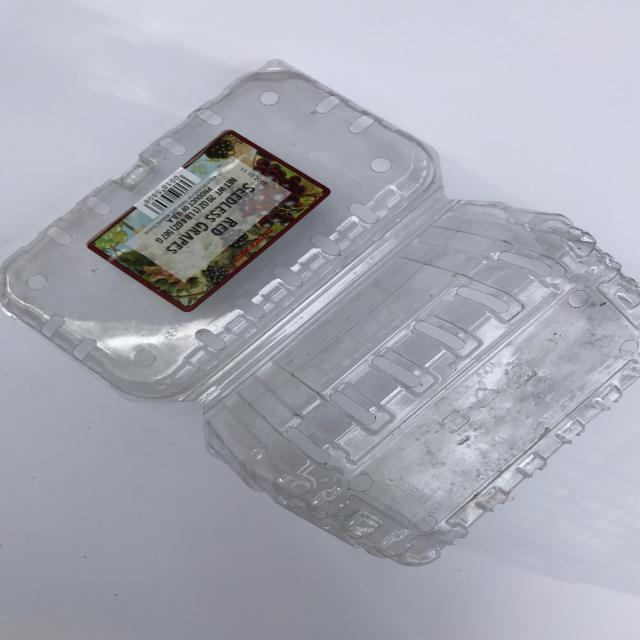plastic: (0, 58, 640, 567)
